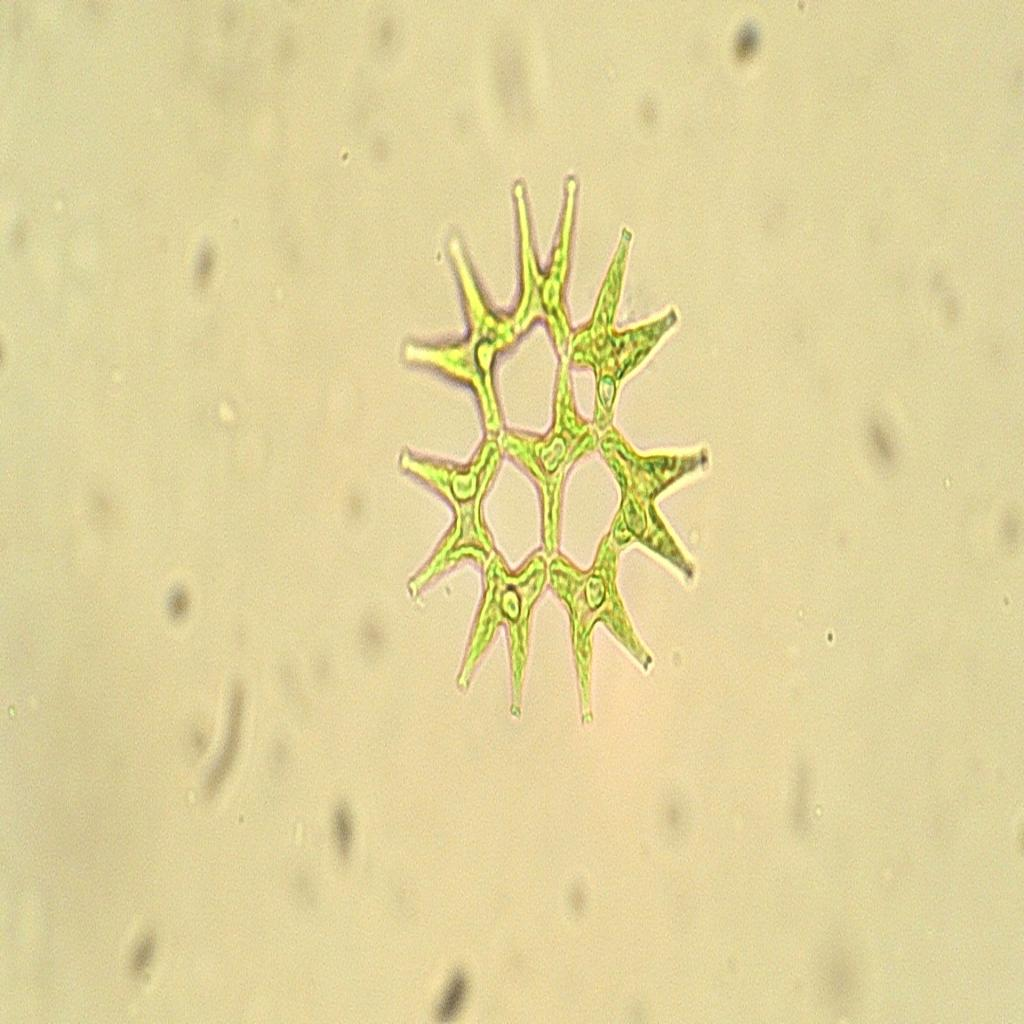Pediastrum_75T: (390, 155, 716, 745)
